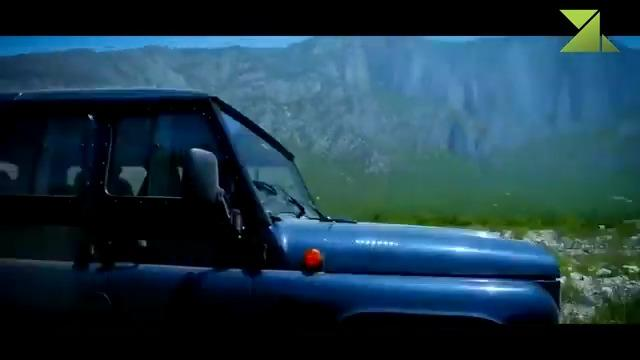MIL_HMMWV: (0, 87, 563, 327)
